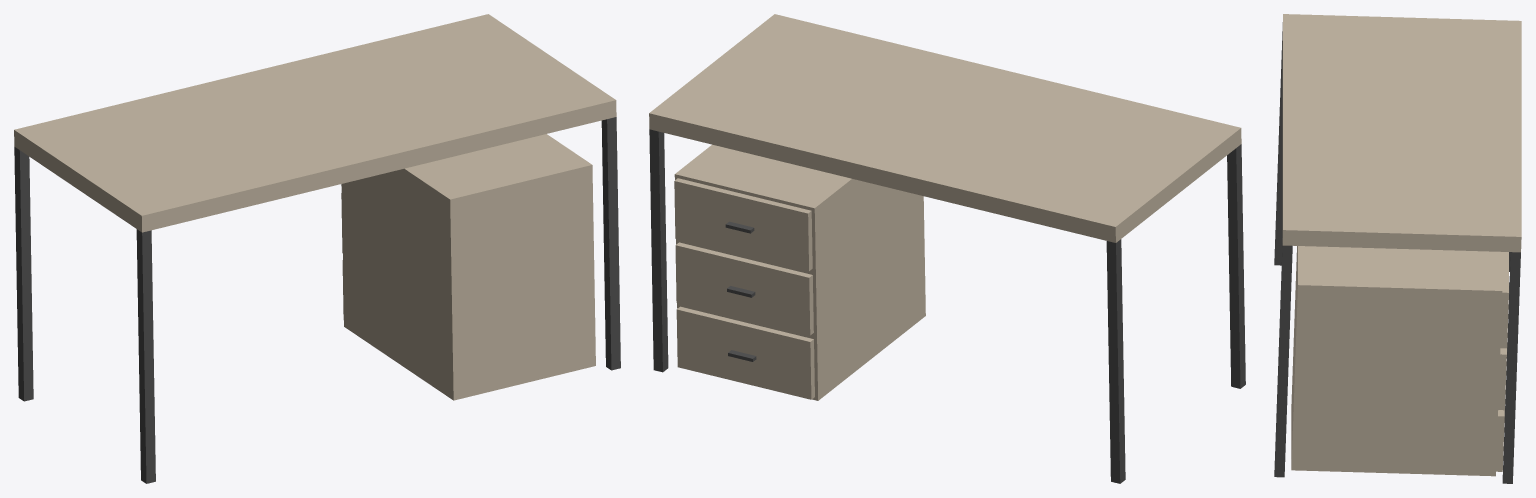
File: office_desk_blender_position_fix.glb
3 renders of one model, left to right at view 1: azimuth 30°, elevation 25°; view 2: azimuth 150°, elevation 25°; view 3: azimuth 270°, elevation 25°, orthographic. The views are drawn at different scales.
Parts seen in each view (by area): view 1: world; view 2: world; view 3: world.
Part boxes in pixels (x1=…): world: x1=14, y1=14, x2=620, y2=483; world: x1=649, y1=14, x2=1245, y2=483; world: x1=1274, y1=14, x2=1521, y2=483.
Size of the model in its own units: 1.5 by 0.8219 by 0.7252.
